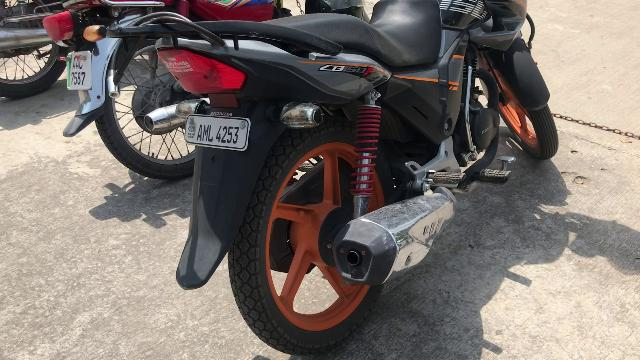plate: (180, 111, 252, 151)
